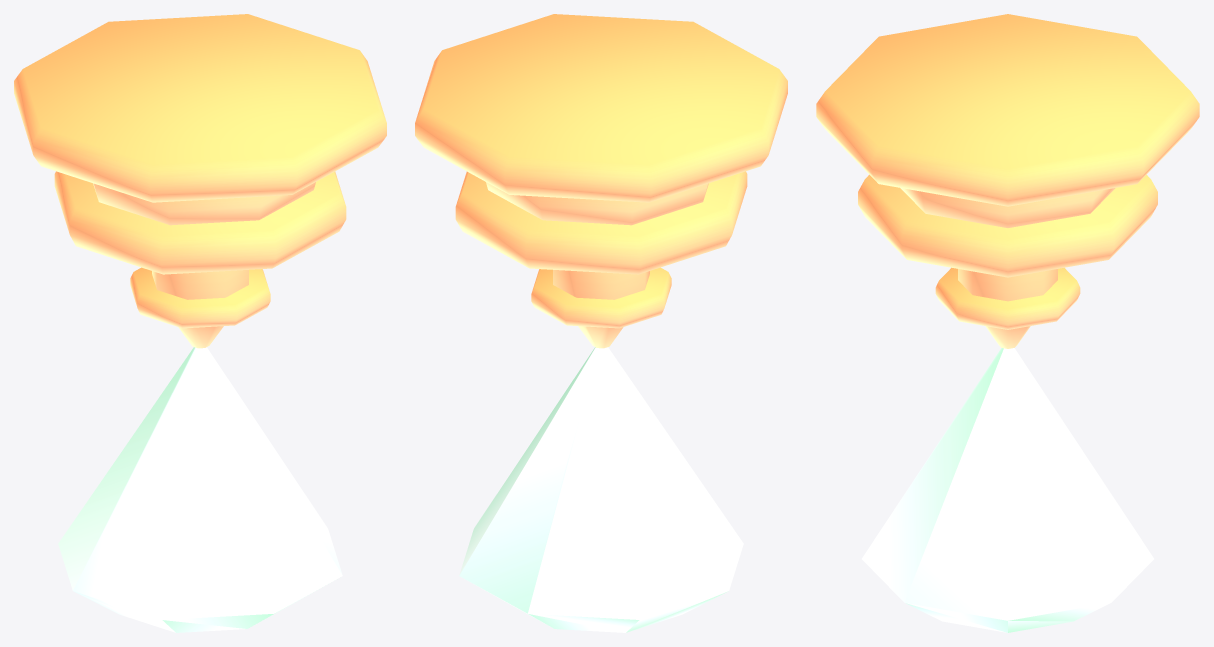
File: wood_pommel_196_004.glb
The picture shows the model from 3 angles, left to right: view 1: azimuth 30°, elevation 25°; view 2: azimuth 150°, elevation 25°; view 3: azimuth 270°, elevation 25°; orthographic projection.
Visible parts, largest first — view 1: wood_pommel_196.004; view 2: wood_pommel_196.004; view 3: wood_pommel_196.004.
Part boxes in pixels (x1,y1,x2,y2): wood_pommel_196.004: [14, 14, 386, 632]; wood_pommel_196.004: [415, 14, 787, 632]; wood_pommel_196.004: [816, 14, 1199, 632].
Bounding box in the file's own units: 1.76 × 2.54 × 1.76.
1 material, 1 textured.
